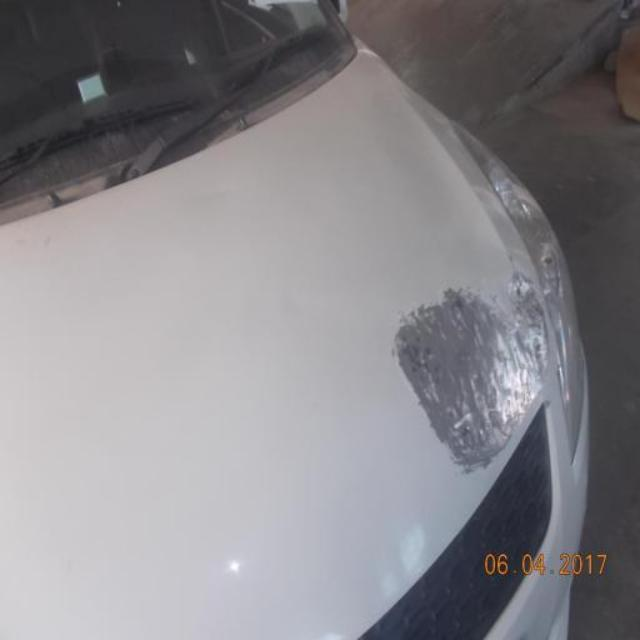rub: (391, 268, 553, 476)
